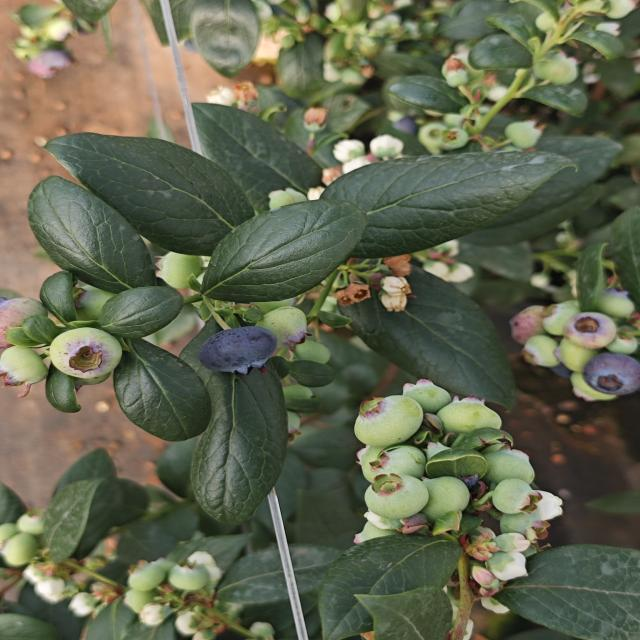ripe: (195, 312, 280, 374), (578, 348, 640, 396)
